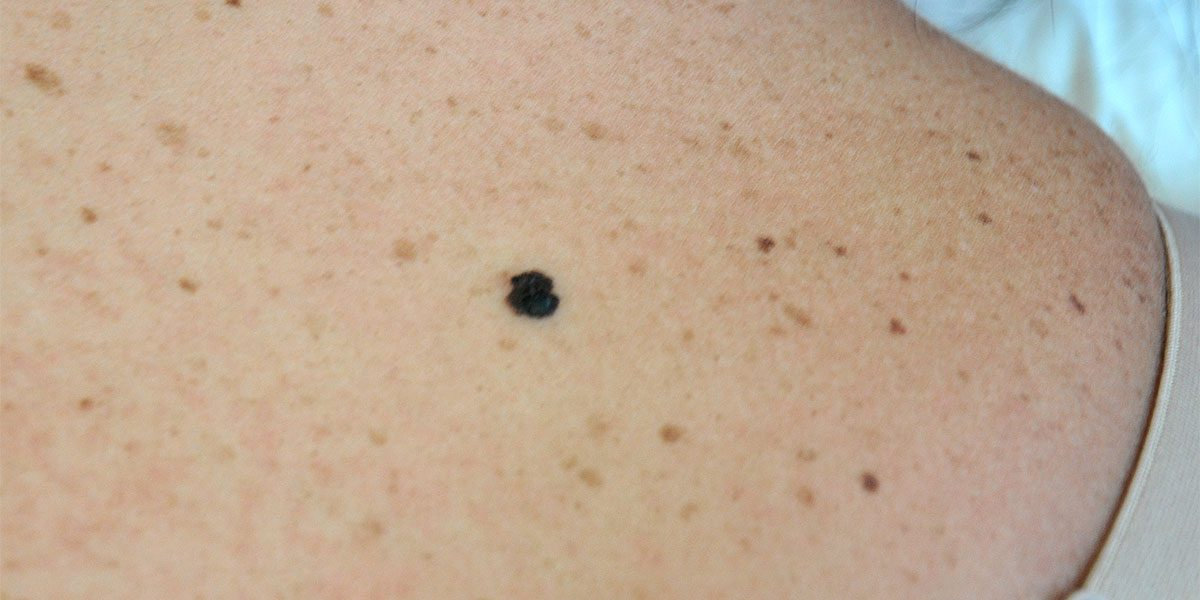melanoma: (362, 162, 673, 373)
